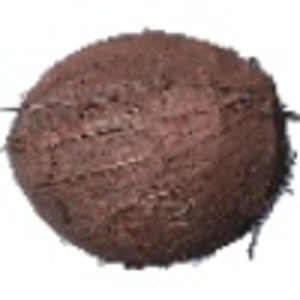coco: (1, 29, 299, 270)
